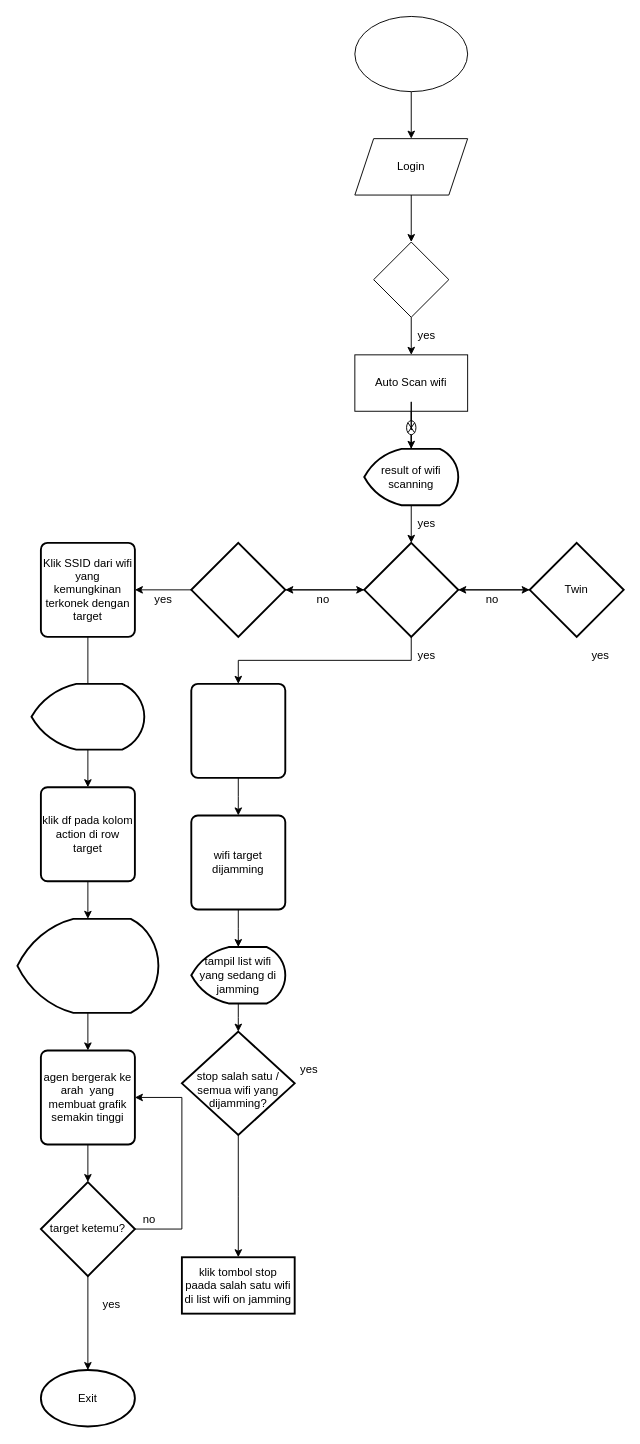
Some shapes in this 640 by 1444 pixel diagram are drawn without their labels. The shapes that lost their labels are listed below. From the top down, each one's centre as x and y in pixels, then its label:
point 411,54: Start
point 411,279: valid ?
point 238,589: DF ?
point 411,589: Jamming?
point 87,716: Tampil detil wifi & list user wifi,
point 238,730: klik tombol jamming pada kolom action di row wifi target
point 87,965: tampil detil target, grafik sebgai tolak ukur lokasi target & button stop DF
